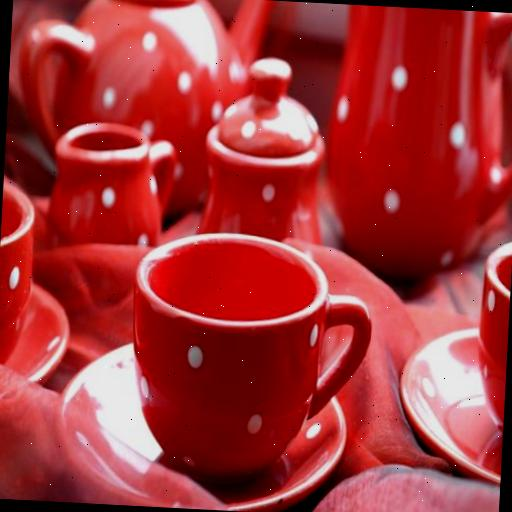cup: (124, 230, 378, 492), (49, 118, 177, 250), (475, 238, 512, 439), (0, 173, 36, 335)
